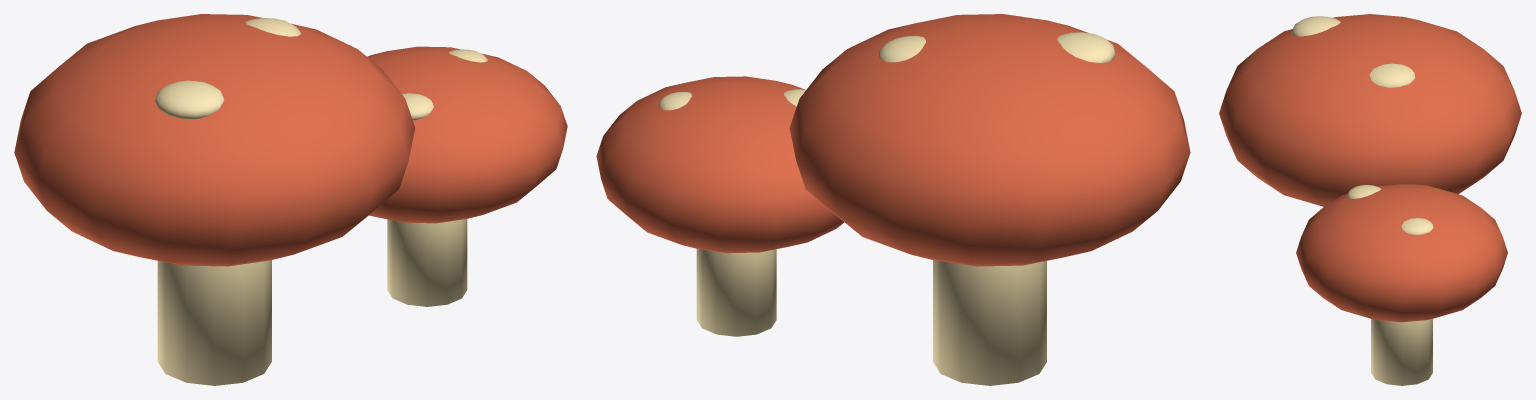
The model's file is mushroom.glb.
3 renders of one model, left to right at view 1: azimuth 30°, elevation 25°; view 2: azimuth 150°, elevation 25°; view 3: azimuth 270°, elevation 25°, orthographic. The views are drawn at different scales.
Parts seen in each view (by area): view 1: mushroom; view 2: mushroom; view 3: mushroom.
Boxes of the visible parts, x1,y1,x2,y2 form: mushroom: [14, 14, 567, 385]; mushroom: [596, 14, 1190, 385]; mushroom: [1219, 14, 1521, 385].
Size of the model in its own units: 0.755 by 0.43 by 0.48.
Materials: 1 (1 with a texture image).
